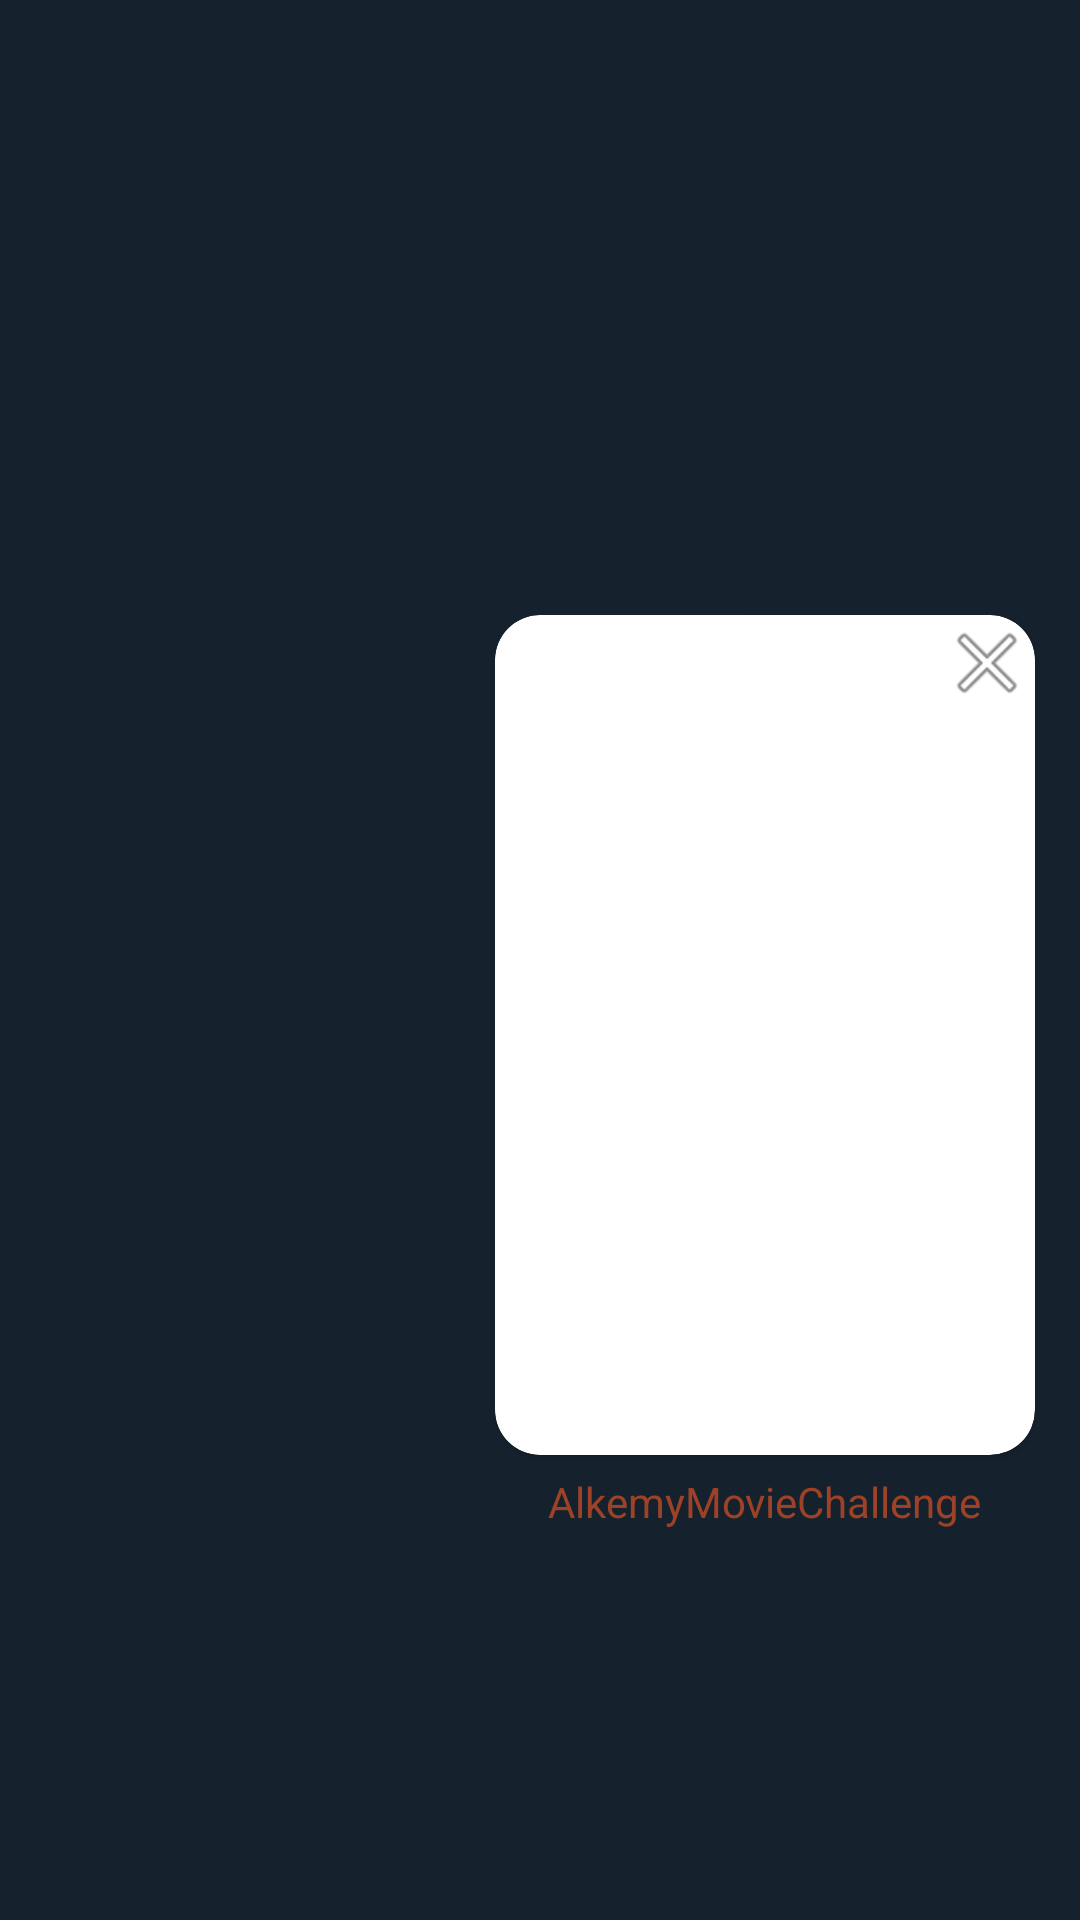

Named icons in this screenshot (1080x1920) and their centers, point (x, y):
close clear cancel: point (987, 663)
